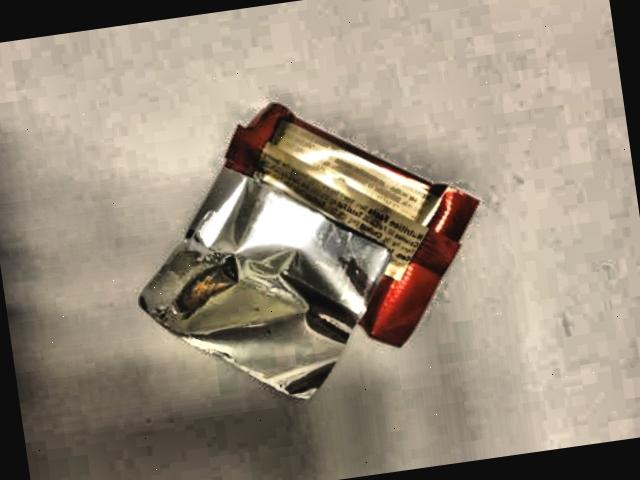Plastic: (102, 74, 519, 422)
